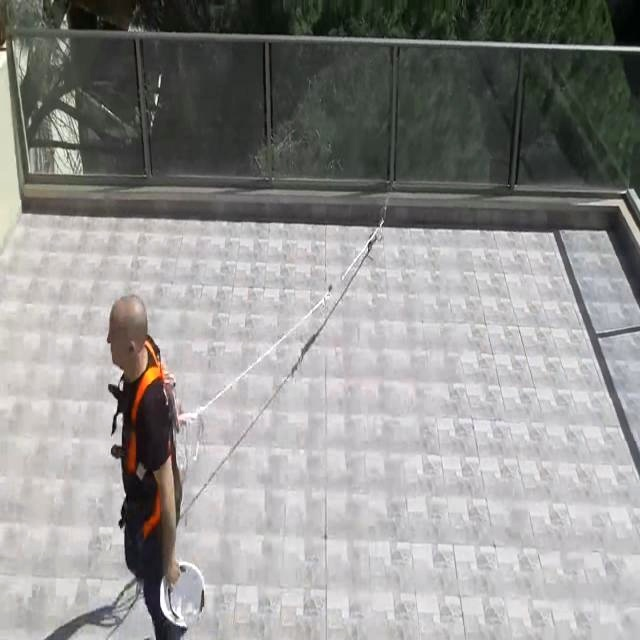safety belt: (100, 374, 206, 546)
